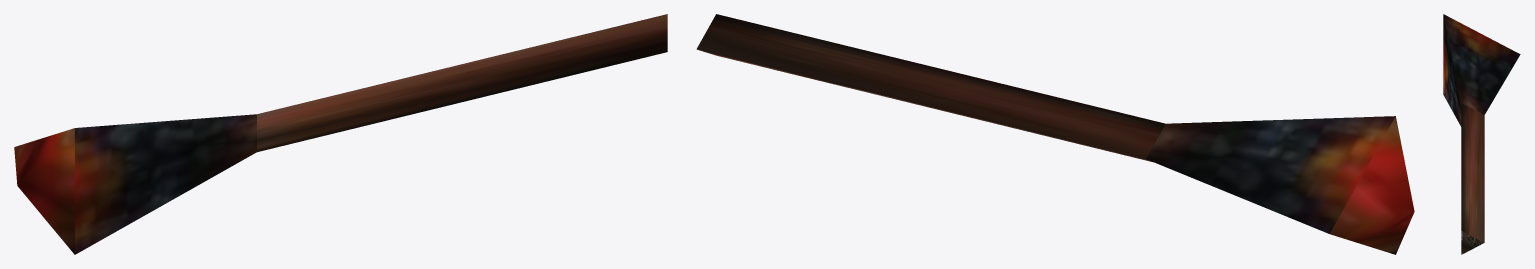
File: ITLS_TORCHBURNED_01.glb
The picture shows the model from 3 angles, left to right: view 1: azimuth 30°, elevation 25°; view 2: azimuth 150°, elevation 25°; view 3: azimuth 270°, elevation 25°; orthographic projection. The views are drawn at different scales.
Parts seen in each view (by area): view 1: Mesh; view 2: Mesh; view 3: Mesh.
Boxes of the visible parts, x1,y1,x2,y2 form: Mesh: [14, 14, 667, 254]; Mesh: [696, 14, 1414, 254]; Mesh: [1443, 14, 1520, 254].
Bounding box in the file's own units: 0.552 × 0.1039 × 0.09.
Materials: 1 (1 with a texture image).
